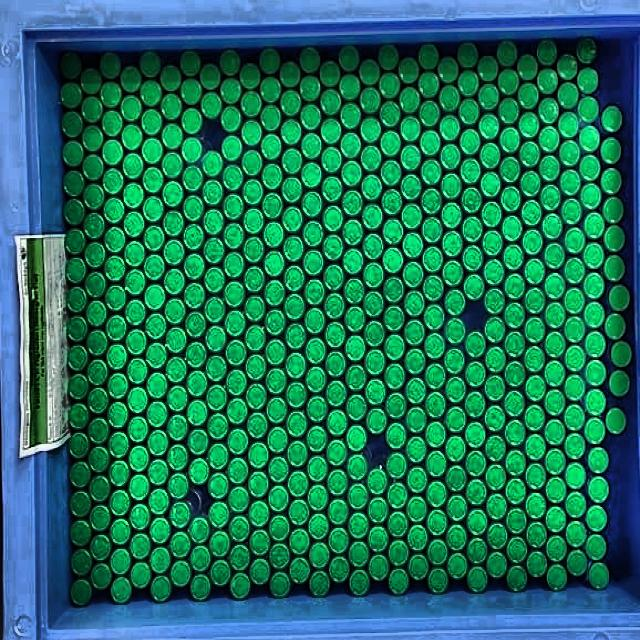vial: (187, 516, 210, 545), (170, 560, 193, 588), (85, 300, 108, 328), (63, 198, 86, 225), (64, 257, 87, 284), (544, 331, 567, 358), (182, 224, 205, 251), (127, 474, 150, 501), (583, 272, 605, 300), (82, 96, 104, 124), (566, 549, 588, 577), (91, 563, 113, 591), (67, 431, 89, 459), (520, 170, 542, 198), (484, 316, 506, 344), (504, 477, 526, 505), (466, 508, 488, 536), (544, 447, 566, 475), (166, 443, 188, 471), (169, 501, 191, 529), (110, 517, 132, 545), (129, 503, 151, 531), (584, 211, 605, 240), (465, 330, 486, 359), (587, 447, 610, 473), (150, 576, 173, 602), (321, 177, 344, 203), (264, 309, 287, 335), (108, 490, 131, 516), (60, 52, 82, 79), (60, 82, 82, 109), (496, 41, 518, 68), (557, 82, 579, 109), (603, 255, 625, 282), (100, 81, 122, 108), (63, 170, 85, 197), (82, 154, 104, 181), (427, 567, 449, 594), (328, 556, 350, 583), (289, 557, 311, 584), (249, 558, 271, 585), (209, 560, 231, 587), (110, 577, 132, 604), (83, 212, 105, 239), (85, 271, 107, 298), (85, 242, 107, 269), (66, 286, 88, 313), (68, 403, 90, 430), (89, 446, 111, 473), (70, 549, 92, 576), (344, 335, 366, 362), (241, 150, 263, 177), (242, 179, 264, 206), (243, 237, 265, 264), (281, 148, 303, 175), (263, 279, 285, 306), (499, 126, 521, 153), (521, 229, 543, 256), (442, 260, 464, 287), (422, 274, 444, 301), (363, 320, 385, 347), (404, 319, 426, 346), (444, 318, 466, 345), (405, 377, 427, 404), (386, 452, 408, 479), (387, 511, 409, 538), (367, 526, 389, 553), (544, 389, 566, 416), (465, 479, 487, 506), (221, 135, 243, 162), (162, 180, 184, 207), (222, 193, 244, 220), (103, 197, 125, 224), (105, 284, 127, 311), (204, 296, 226, 323), (107, 401, 129, 428), (127, 416, 149, 443), (108, 460, 130, 487), (148, 488, 170, 515), (207, 443, 229, 470), (227, 486, 249, 513), (229, 544, 251, 571), (605, 313, 626, 341), (609, 284, 630, 312), (588, 475, 609, 503), (368, 554, 389, 582), (71, 578, 92, 606), (281, 118, 302, 146), (282, 176, 303, 204), (249, 528, 270, 556), (421, 187, 442, 215), (524, 316, 545, 344), (425, 362, 446, 390), (427, 508, 448, 536), (565, 491, 586, 519), (525, 374, 546, 402), (564, 404, 585, 432), (565, 462, 586, 490), (203, 208, 224, 236), (206, 384, 227, 412), (148, 459, 169, 487), (208, 501, 229, 529), (150, 546, 171, 574), (610, 369, 630, 398), (224, 311, 247, 336), (160, 65, 182, 91), (239, 63, 261, 89), (259, 48, 281, 74), (319, 60, 341, 86), (418, 43, 440, 69), (516, 54, 538, 80), (556, 54, 578, 80), (576, 38, 598, 64), (577, 97, 599, 123), (563, 228, 585, 254), (610, 341, 632, 367), (585, 389, 607, 415), (586, 505, 608, 531), (82, 125, 104, 151), (485, 552, 507, 578), (446, 553, 468, 579), (309, 571, 331, 597), (270, 571, 292, 597), (86, 329, 108, 355), (67, 315, 89, 341), (67, 345, 89, 371), (87, 388, 109, 414), (68, 374, 90, 400), (89, 476, 111, 502), (69, 461, 91, 487), (322, 235, 344, 261), (344, 306, 366, 332), (325, 380, 347, 406), (326, 470, 348, 496), (328, 528, 350, 554), (341, 190, 363, 216), (342, 220, 364, 246), (348, 541, 370, 567), (241, 120, 263, 146), (281, 206, 303, 232), (243, 266, 265, 292), (306, 396, 328, 422), (247, 413, 269, 439), (287, 471, 309, 497), (420, 159, 442, 185), (441, 202, 463, 228), (544, 273, 566, 299), (424, 333, 446, 359), (384, 363, 406, 389), (564, 316, 586, 342), (523, 345, 545, 371), (465, 361, 487, 387), (445, 465, 467, 491), (525, 522, 547, 548), (524, 434, 546, 460), (121, 124, 143, 150), (224, 223, 246, 249), (204, 267, 226, 293), (144, 284, 166, 310), (183, 283, 205, 309), (125, 330, 147, 356), (149, 518, 171, 544), (129, 533, 151, 559), (100, 52, 121, 79), (81, 67, 102, 94), (398, 57, 419, 84), (438, 56, 459, 83), (578, 67, 599, 94), (583, 243, 604, 270), (605, 407, 626, 434), (585, 418, 606, 445), (585, 330, 606, 357), (586, 534, 607, 561), (62, 111, 83, 138), (63, 140, 84, 167), (547, 564, 568, 591), (467, 566, 488, 593), (408, 553, 429, 580), (190, 574, 211, 601), (83, 183, 104, 210), (88, 417, 109, 444), (70, 519, 91, 546), (90, 534, 111, 561), (322, 205, 343, 232), (323, 264, 344, 291), (326, 409, 347, 436), (326, 440, 347, 467), (346, 364, 367, 391), (348, 512, 369, 539), (263, 221, 284, 248), (301, 162, 322, 189), (302, 191, 323, 218), (303, 249, 324, 276), (284, 294, 305, 321), (266, 368, 287, 395), (286, 381, 307, 408), (246, 383, 267, 410), (308, 484, 329, 511), (309, 542, 330, 569), (269, 514, 290, 541), (361, 145, 382, 172), (401, 144, 422, 171), (380, 130, 401, 157), (478, 83, 499, 110), (458, 99, 479, 126), (500, 156, 521, 183), (460, 158, 481, 185), (481, 201, 502, 228), (363, 233, 384, 260), (382, 218, 403, 245), (365, 349, 386, 376), (484, 288, 505, 315), (564, 345, 585, 372), (444, 348, 465, 375), (425, 421, 446, 448), (387, 482, 408, 509), (407, 495, 428, 522), (407, 524, 428, 551), (446, 524, 467, 551), (467, 537, 488, 564), (565, 432, 586, 459), (201, 92, 222, 119), (202, 150, 223, 177), (123, 182, 144, 209), (143, 196, 164, 223), (183, 194, 204, 221), (104, 226, 125, 253), (144, 225, 165, 252), (124, 240, 145, 267), (144, 254, 165, 281), (125, 299, 146, 326), (145, 312, 166, 339), (106, 344, 127, 371), (146, 342, 167, 369), (226, 369, 247, 396), (187, 370, 208, 397), (227, 398, 248, 425), (187, 399, 208, 426), (188, 427, 209, 454), (128, 445, 149, 472), (227, 458, 248, 485), (229, 515, 250, 542), (110, 547, 131, 574), (580, 125, 600, 153), (347, 393, 367, 421), (243, 207, 263, 235), (501, 185, 521, 213), (123, 152, 143, 180), (228, 428, 248, 456), (479, 172, 501, 197), (440, 173, 462, 198), (545, 536, 567, 561), (161, 123, 183, 148), (164, 298, 186, 323), (146, 402, 168, 427), (167, 415, 189, 440), (120, 67, 141, 93), (180, 50, 201, 76), (359, 59, 380, 85), (457, 42, 478, 68), (536, 40, 557, 66), (558, 112, 579, 138), (600, 138, 621, 164), (601, 168, 622, 194), (580, 155, 601, 181), (580, 184, 601, 210), (604, 226, 625, 252), (584, 302, 605, 328), (507, 565, 528, 591), (388, 568, 409, 594), (230, 573, 251, 599), (130, 562, 151, 588), (65, 229, 86, 255), (87, 359, 108, 385), (70, 491, 91, 517), (320, 118, 341, 144), (342, 248, 363, 274), (344, 277, 365, 303), (325, 322, 346, 348), (341, 161, 362, 187), (261, 133, 282, 159), (261, 164, 282, 190), (262, 193, 283, 219), (301, 104, 322, 130), (301, 133, 322, 159), (284, 236, 305, 262), (304, 308, 325, 334), (284, 265, 305, 291), (306, 367, 327, 393), (265, 339, 286, 365), (245, 354, 266, 380), (286, 412, 307, 438), (287, 441, 308, 467), (268, 457, 289, 483), (248, 471, 269, 497), (268, 486, 289, 512), (248, 500, 269, 526), (560, 169, 581, 195), (561, 198, 582, 224), (399, 87, 420, 113), (418, 72, 439, 98), (360, 87, 381, 113), (420, 130, 441, 156), (380, 160, 401, 186), (538, 98, 559, 124), (498, 69, 519, 95), (438, 86, 459, 112), (439, 115, 460, 141), (478, 114, 499, 140), (519, 142, 540, 168), (459, 129, 480, 155), (440, 144, 461, 170), (480, 142, 501, 168), (381, 189, 402, 215), (540, 185, 561, 211), (461, 188, 482, 214), (462, 216, 483, 242), (422, 246, 443, 272), (524, 259, 545, 285), (564, 288, 585, 314), (504, 274, 525, 300), (464, 274, 485, 300), (363, 262, 384, 288), (383, 276, 404, 302), (424, 304, 445, 330), (384, 305, 405, 331), (384, 334, 405, 360), (504, 302, 525, 328), (504, 331, 525, 357), (484, 375, 505, 401), (386, 392, 407, 418), (406, 407, 427, 433), (445, 406, 466, 432), (485, 435, 506, 461), (505, 450, 526, 476), (367, 468, 388, 494), (368, 497, 389, 523), (426, 480, 447, 506), (388, 540, 409, 566), (505, 508, 526, 534), (525, 493, 546, 519), (487, 523, 508, 549), (546, 477, 567, 503), (506, 537, 527, 563), (564, 374, 585, 400), (121, 96, 142, 122), (181, 79, 202, 105), (160, 94, 181, 120), (181, 108, 202, 134), (141, 138, 162, 164), (162, 152, 183, 178), (103, 168, 124, 194), (164, 269, 185, 295), (224, 281, 245, 307), (166, 327, 187, 353), (205, 326, 226, 352), (206, 355, 227, 381), (127, 386, 148, 412), (167, 385, 188, 411), (208, 413, 229, 439), (167, 473, 188, 499), (190, 545, 211, 571), (209, 530, 230, 556), (140, 51, 160, 78), (589, 563, 609, 590), (325, 293, 345, 320), (325, 351, 345, 378), (346, 424, 366, 451), (303, 220, 323, 247), (306, 337, 326, 364), (268, 426, 288, 453), (289, 499, 309, 526), (309, 513, 329, 540), (362, 203, 382, 230), (404, 290, 424, 317), (363, 291, 383, 318), (485, 345, 505, 372), (485, 404, 505, 431), (386, 423, 406, 450), (466, 450, 486, 477), (525, 404, 545, 431), (485, 464, 505, 491), (427, 539, 447, 566), (525, 463, 545, 490), (447, 493, 467, 520), (141, 80, 161, 107), (102, 139, 122, 166), (221, 106, 241, 133), (182, 137, 202, 164), (183, 165, 203, 192), (204, 237, 224, 264), (125, 269, 145, 296), (127, 357, 147, 384), (108, 431, 128, 458), (208, 472, 228, 499), (224, 163, 243, 191), (147, 371, 166, 399), (378, 45, 399, 70), (477, 56, 498, 81), (603, 198, 624, 223), (585, 360, 606, 385), (349, 570, 370, 595), (340, 103, 361, 128), (241, 91, 262, 116), (260, 105, 281, 130), (304, 280, 325, 305), (307, 456, 328, 481), (379, 73, 400, 98), (360, 117, 381, 142), (458, 71, 479, 96), (482, 231, 503, 256), (503, 244, 524, 269), (366, 408, 387, 433), (425, 392, 446, 417), (465, 422, 486, 447), (445, 436, 466, 461), (486, 494, 507, 519), (566, 522, 587, 547), (545, 361, 566, 386), (101, 111, 122, 136), (141, 110, 162, 135), (166, 357, 187, 382), (220, 50, 240, 76), (200, 63, 220, 89), (300, 47, 320, 73), (339, 45, 359, 71), (280, 61, 300, 87), (602, 106, 622, 132), (527, 551, 547, 577), (90, 505, 110, 531), (321, 89, 341, 115), (328, 499, 348, 525), (341, 132, 361, 158), (348, 484, 368, 510), (281, 90, 301, 116), (300, 75, 320, 101), (264, 251, 284, 277), (245, 295, 265, 321), (307, 426, 327, 452), (245, 325, 265, 351), (286, 353, 306, 379), (248, 442, 268, 468), (269, 543, 289, 569), (560, 140, 580, 166), (380, 101, 400, 127), (400, 116, 420, 142), (420, 101, 440, 127), (519, 112, 539, 138), (499, 98, 519, 124), (539, 126, 559, 152), (402, 203, 422, 229), (539, 155, 559, 181), (521, 200, 541, 226), (545, 243, 565, 269), (502, 216, 522, 242), (422, 217, 442, 243), (403, 261, 423, 287), (445, 289, 465, 315), (405, 349, 425, 375), (365, 378, 385, 404), (524, 288, 544, 314), (545, 302, 565, 328), (505, 361, 525, 387), (446, 377, 466, 403), (504, 391, 524, 417), (505, 420, 525, 446), (426, 451, 446, 477), (406, 437, 426, 463), (407, 467, 427, 493), (544, 418, 564, 444), (221, 78, 241, 104), (203, 179, 223, 205), (163, 210, 183, 236), (164, 239, 184, 265), (105, 255, 125, 281), (184, 254, 204, 280), (224, 252, 244, 278), (106, 316, 126, 342), (226, 340, 246, 366), (148, 430, 168, 456), (189, 458, 209, 484), (519, 82, 538, 109), (170, 531, 189, 558), (537, 70, 558, 94), (185, 312, 206, 336), (322, 148, 342, 173), (340, 75, 360, 100), (347, 455, 367, 480), (261, 77, 281, 102), (401, 175, 421, 200), (403, 233, 423, 258), (382, 248, 402, 273), (442, 231, 462, 256), (484, 259, 504, 284), (465, 392, 485, 417), (143, 167, 163, 192), (124, 212, 144, 237), (186, 342, 206, 367), (108, 373, 128, 398), (286, 323, 305, 349), (362, 174, 381, 200), (463, 245, 482, 271), (546, 507, 565, 533), (267, 399, 287, 423), (290, 529, 309, 554), (543, 214, 562, 239), (565, 258, 584, 282)
